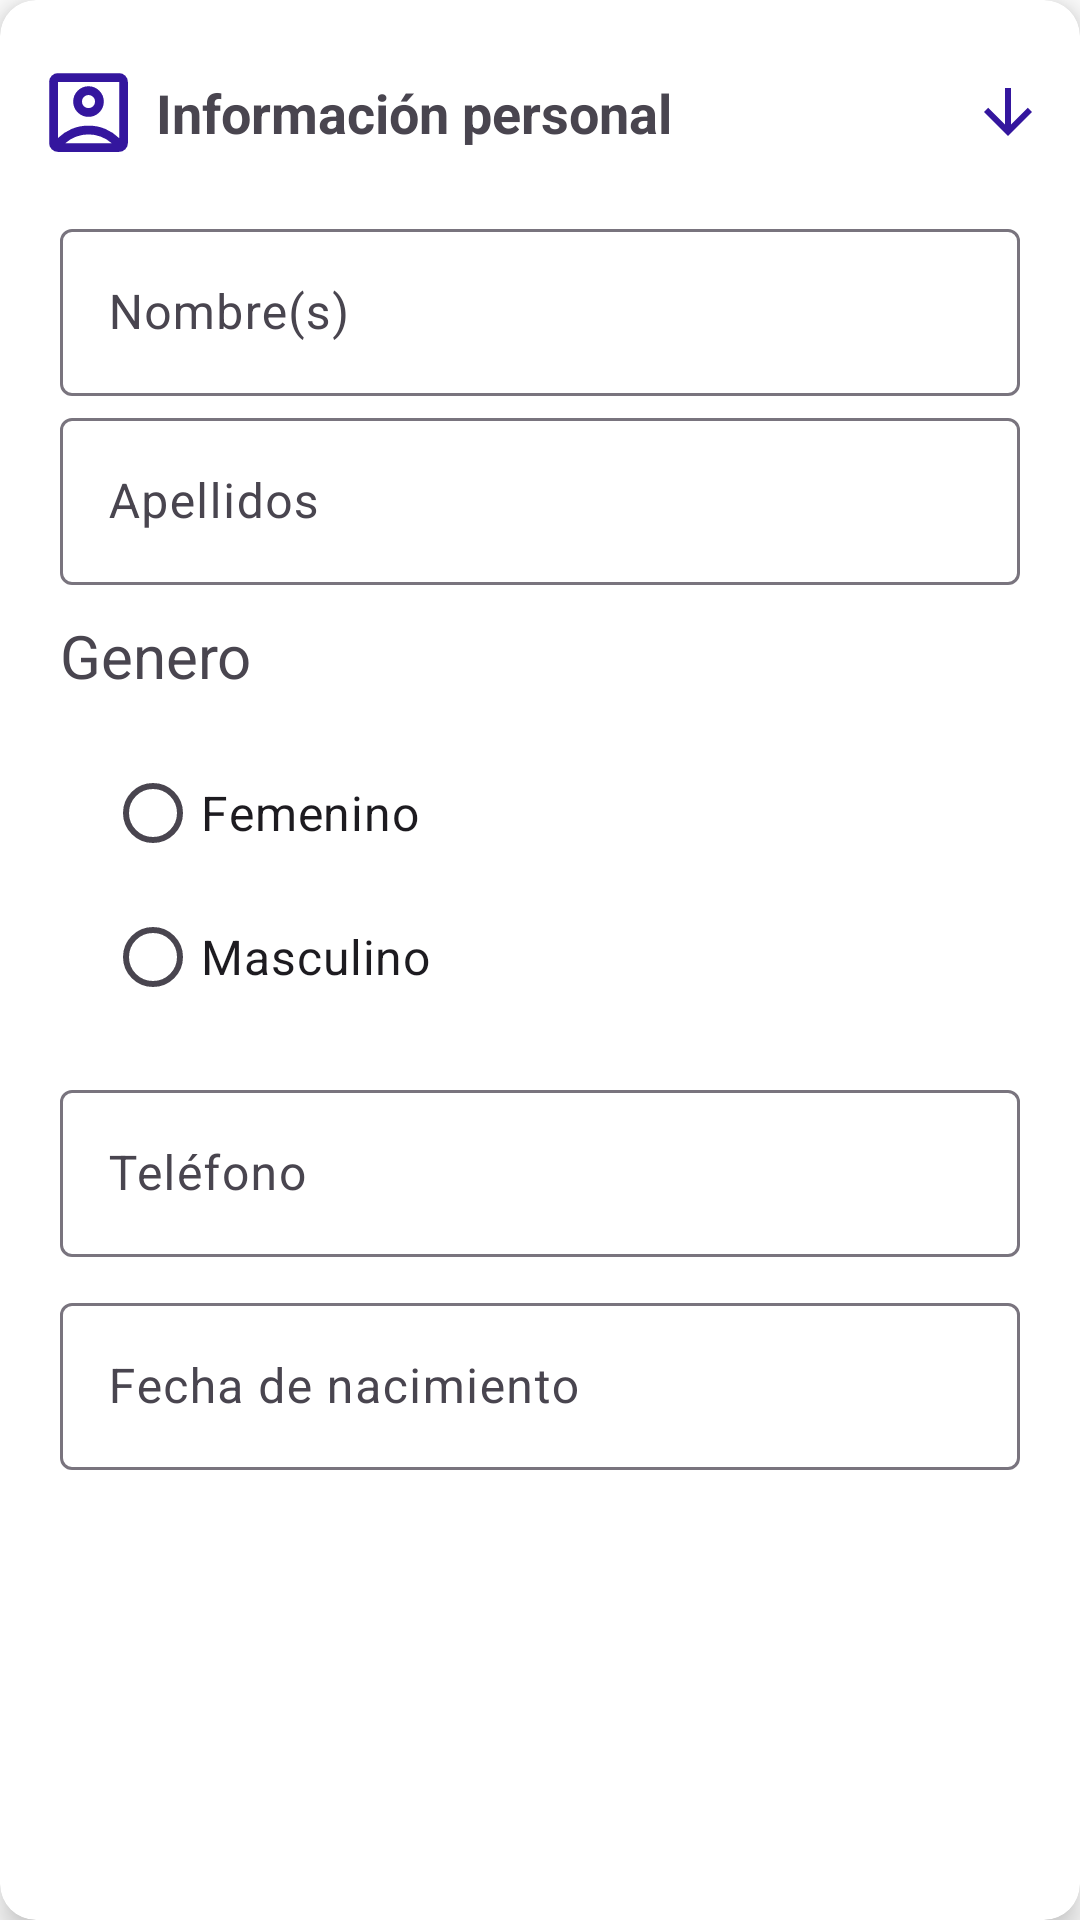

Screen size 1080×1920. Icon name, then its box in pixels as (x1, y1, x2, y2):
flechabajo: (984, 88, 1032, 136)
